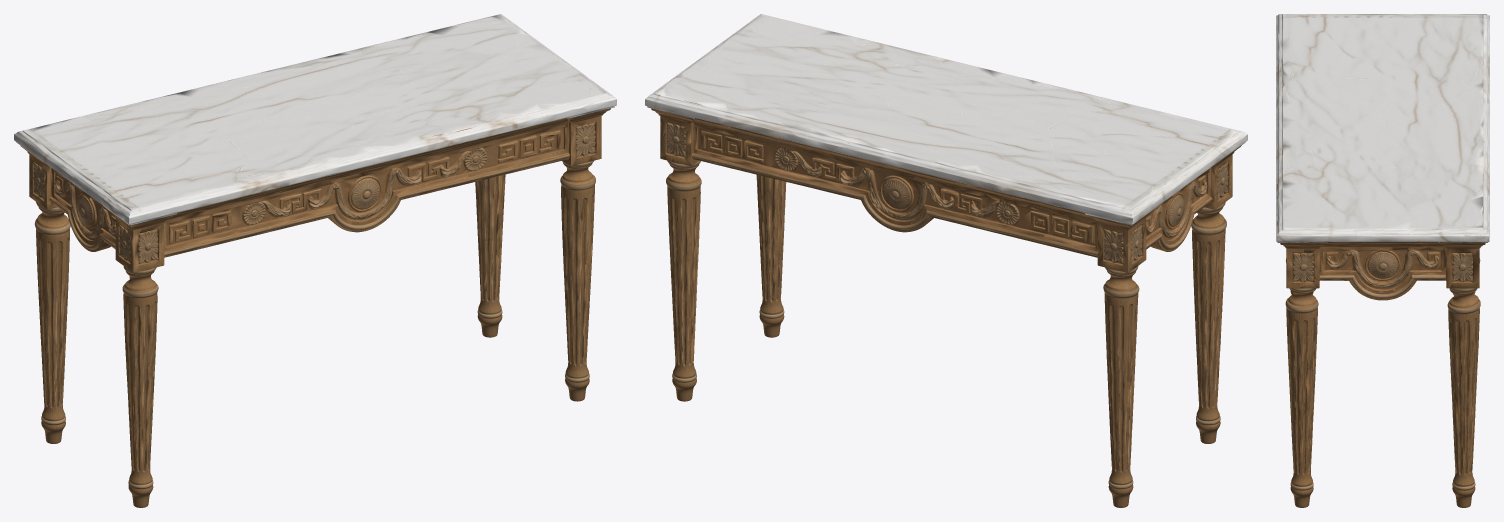
The model's file is neoclassical_oak__marble_console_table.glb.
3 views of the same model, side by side, from view 1: azimuth 30°, elevation 25°; view 2: azimuth 150°, elevation 25°; view 3: azimuth 270°, elevation 25° (orthographic). The views are drawn at different scales.
Parts seen in each view (by area): view 1: Object_7, Object_5, Object_6, Object_4; view 2: Object_7, Object_5, Object_6, Object_4, Object_8; view 3: Object_4, Object_7, Object_5, Object_6, Object_8.
Boxes of the visible parts, x1,y1,x2,y2 form: Object_7: (256,16,600,401); Object_5: (24,84,591,507); Object_6: (14,72,381,507); Object_4: (144,14,616,401); Object_7: (653,19,1008,400); Object_5: (671,83,1245,507); Object_6: (881,73,1247,507); Object_4: (645,14,876,401); Object_8: (670,118,766,391); Object_4: (1276,197,1489,507); Object_7: (1276,113,1489,487); Object_5: (1276,14,1489,498); Object_6: (1276,14,1489,127); Object_8: (1285,302,1476,502).
Bounding box in the file's own units: 1.33 × 0.8 × 0.542.
Materials: 1 (1 with a texture image).
